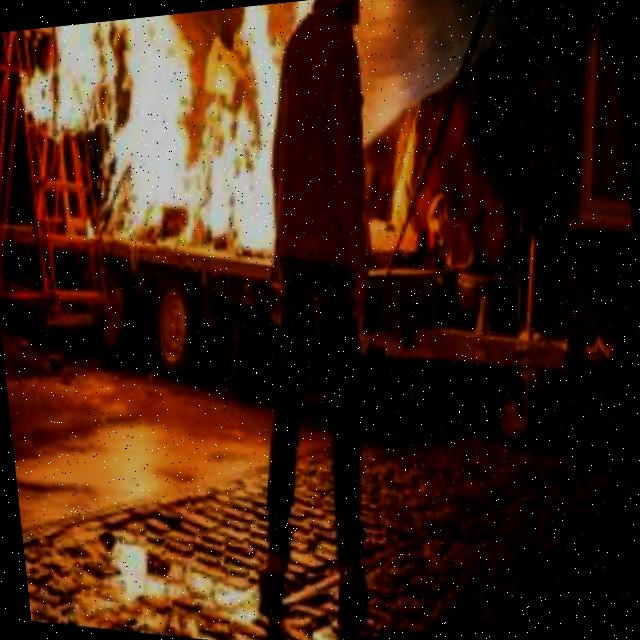fire: (8, 5, 288, 287)
